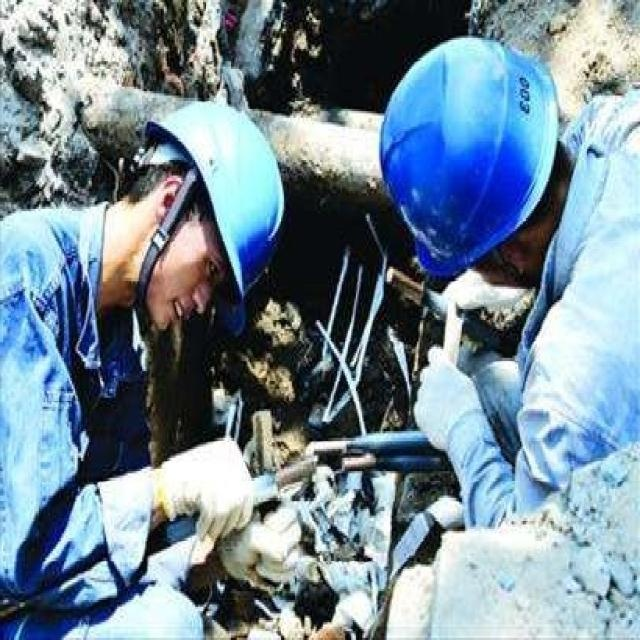Con_Casco: (390, 36, 562, 277), (113, 101, 276, 323)
